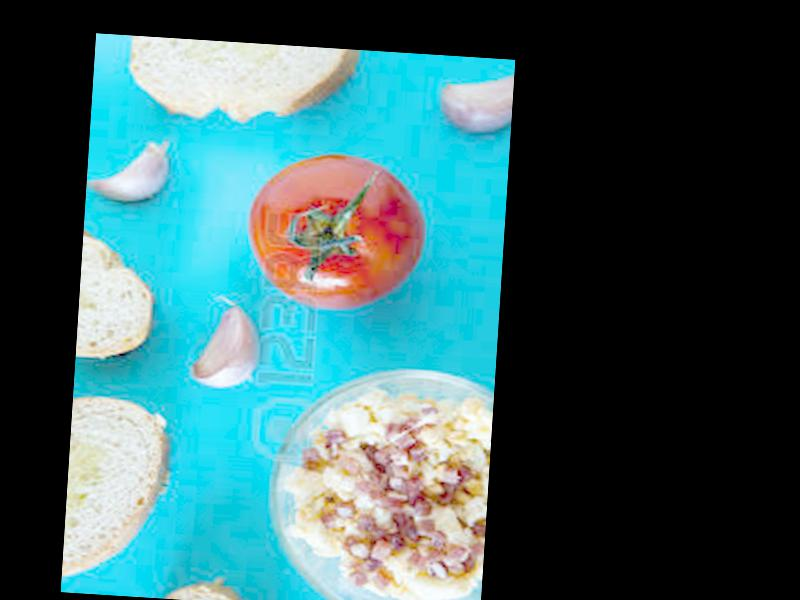Tomato: (243, 148, 428, 308)
